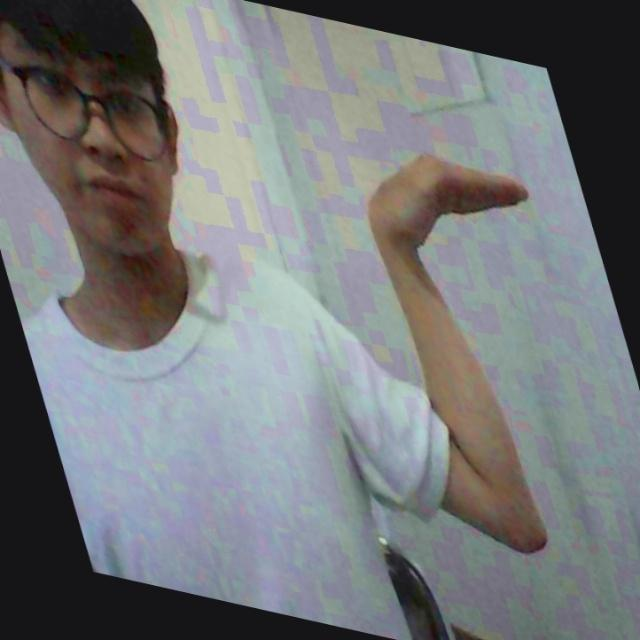Z: (354, 142, 572, 567)
